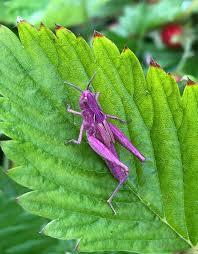Insects: (59, 73, 149, 219)
